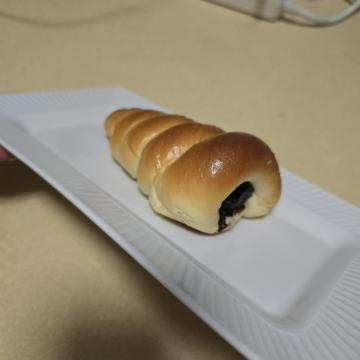cream horn: (94, 67, 249, 271)
